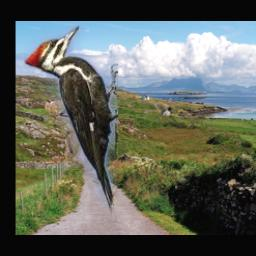Woodpecker: (25, 25, 119, 218)
